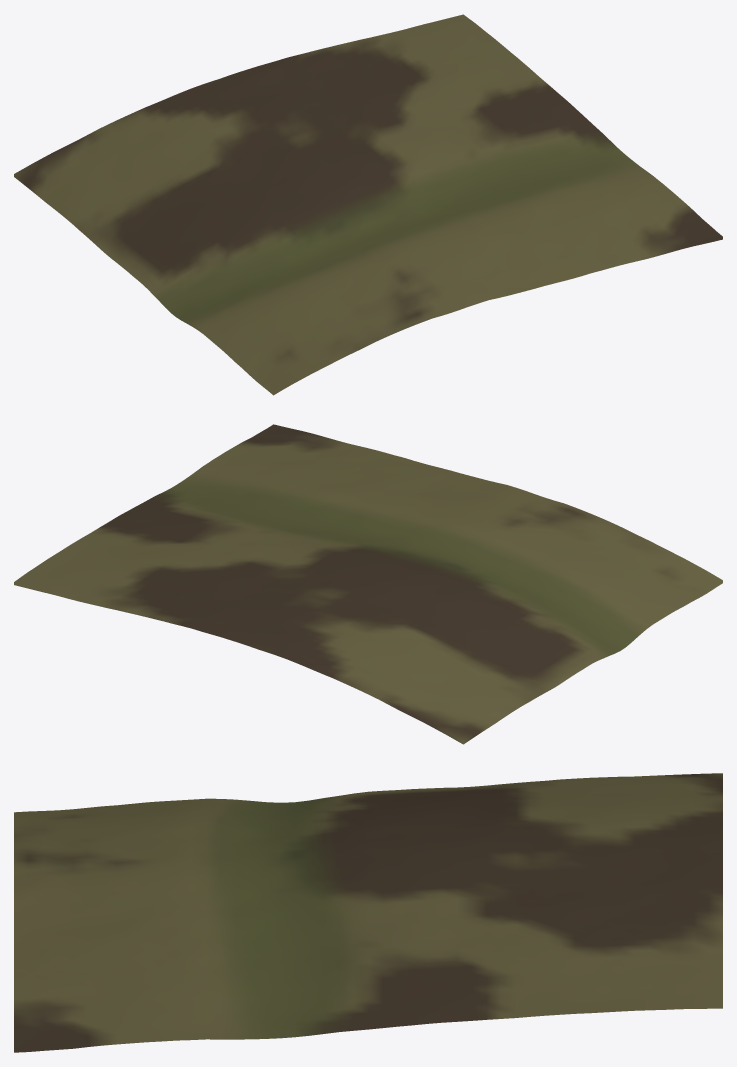
File: land_m_10_06.glb
3 renders of one model, top to bottom at view 1: azimuth 30°, elevation 25°; view 2: azimuth 150°, elevation 25°; view 3: azimuth 270°, elevation 25°, orthographic. The views are drawn at different scales.
Parts seen in each view (by area): view 1: land_m_10_06; view 2: land_m_10_06; view 3: land_m_10_06.
Boxes of the visible parts, x1,y1,x2,y2 form: land_m_10_06: [14, 14, 722, 395]; land_m_10_06: [14, 424, 722, 744]; land_m_10_06: [14, 773, 722, 1052].
Size of the model in its own units: 960 by 167 by 960.
